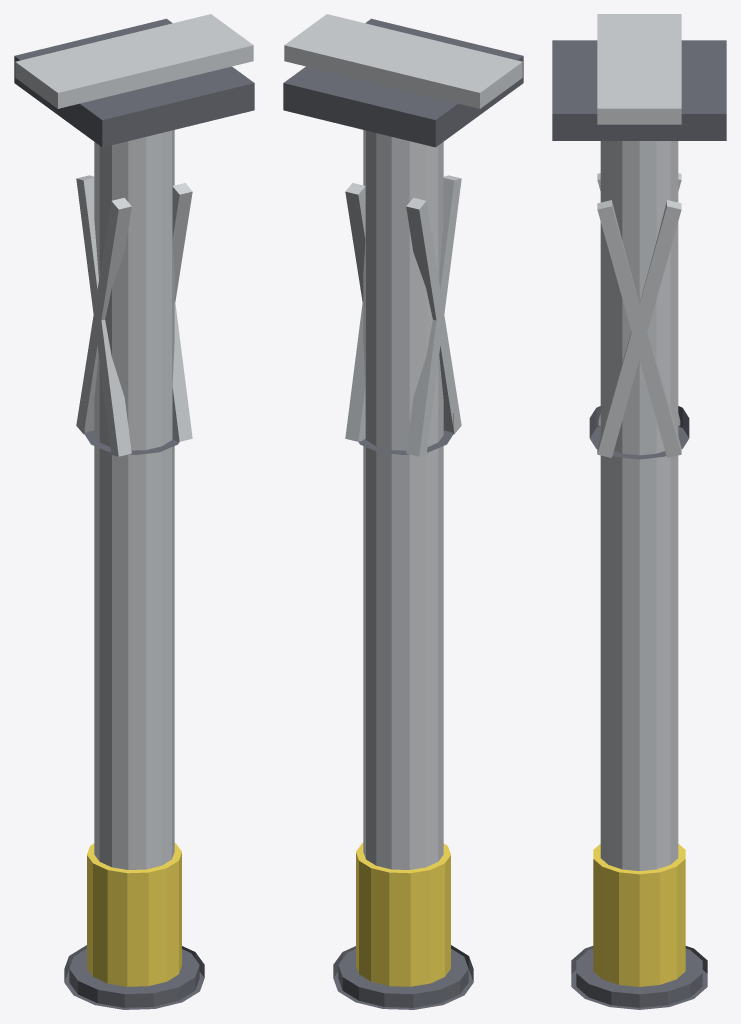
File: theme-park-rides-and-coasters-theme-park-rides-and-coa-7e966c85__28639.glb
3 views of the same model, side by side, from view 1: azimuth 30°, elevation 25°; view 2: azimuth 150°, elevation 25°; view 3: azimuth 270°, elevation 25° (orthographic).
Parts seen in each view (by area): view 1: theme-park-rides-and-coasters-support-column-4m; view 2: theme-park-rides-and-coasters-support-column-4m; view 3: theme-park-rides-and-coasters-support-column-4m.
Part boxes in pixels (<box>): theme-park-rides-and-coasters-support-column-4m: <box>14,14,254,1009</box>; theme-park-rides-and-coasters-support-column-4m: <box>283,14,523,1009</box>; theme-park-rides-and-coasters-support-column-4m: <box>552,14,726,1009</box>.
Bounding box in the file's own units: 0.8997 × 4.07 × 0.6997.
